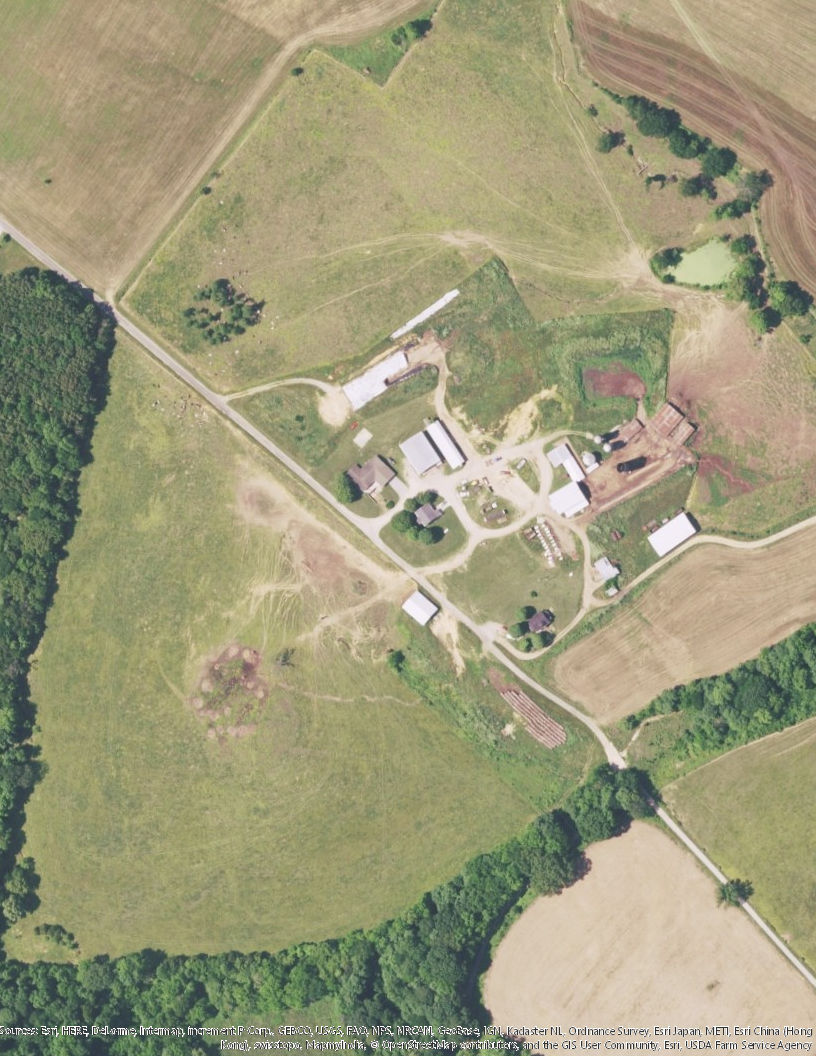cafo: (646, 507, 701, 555), (425, 418, 469, 473), (396, 427, 443, 477), (400, 589, 441, 627)
